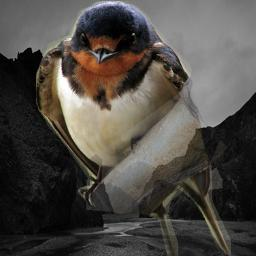Swallow: (36, 1, 231, 256)
